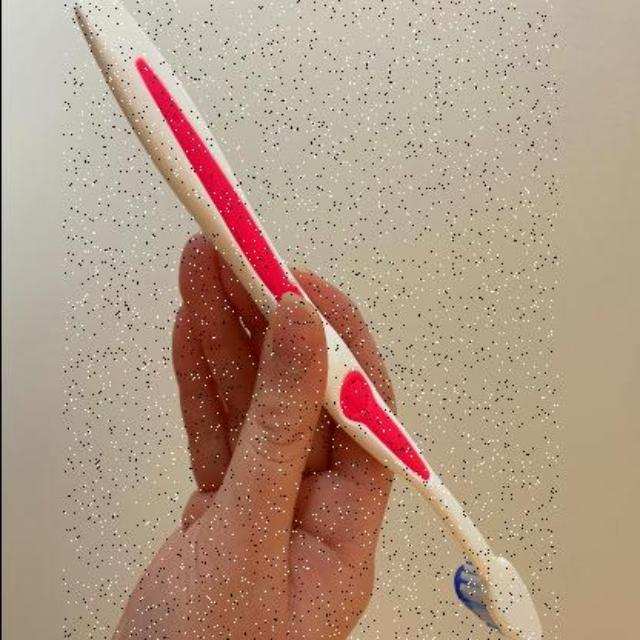toothbrush: (61, 0, 556, 640)
